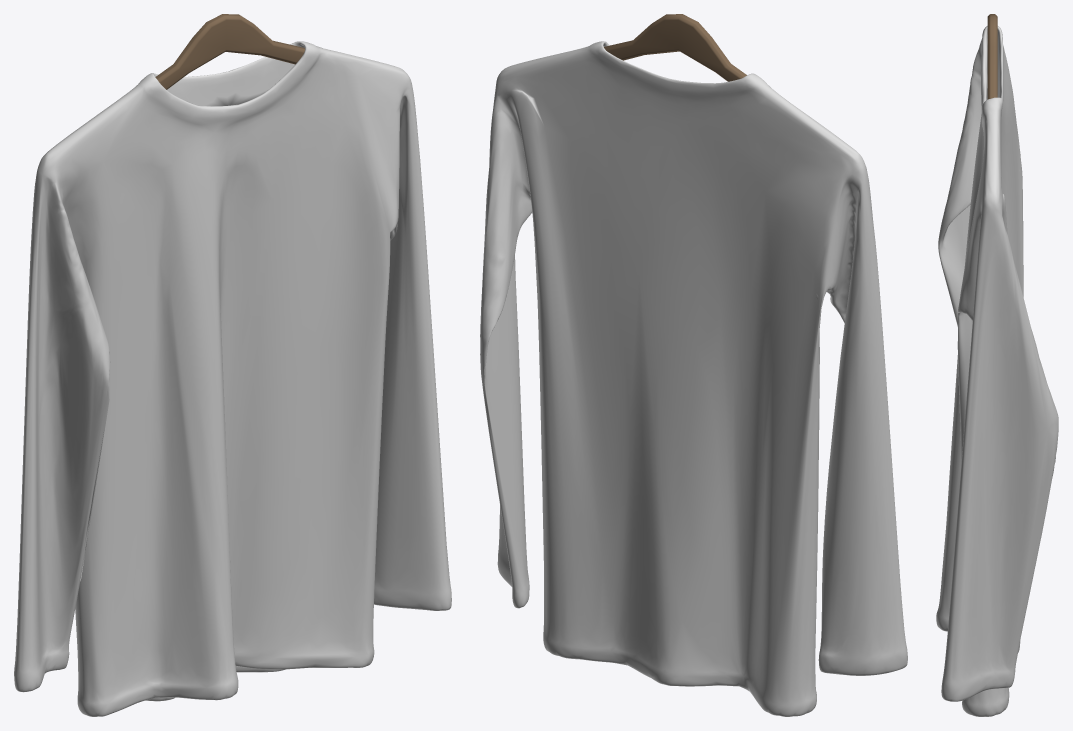
The model's file is d_long-sleeve.glb.
The picture shows the model from 3 angles, left to right: view 1: azimuth 30°, elevation 25°; view 2: azimuth 150°, elevation 25°; view 3: azimuth 270°, elevation 25°; orthographic projection. The views are drawn at different scales.
Visible parts, largest first — view 1: GarmentFabric, HangerShoulders; view 2: GarmentFabric, HangerShoulders; view 3: GarmentFabric, HangerShoulders.
Part boxes in pixels (x1,y1,x2,y2): GarmentFabric: (14, 41, 451, 716); HangerShoulders: (155, 14, 304, 89); GarmentFabric: (480, 41, 907, 716); HangerShoulders: (604, 14, 746, 81); GarmentFabric: (936, 26, 1058, 716); HangerShoulders: (987, 14, 997, 99).
Bounding box in the file's own units: 1.85 × 2.81 × 0.4907.
